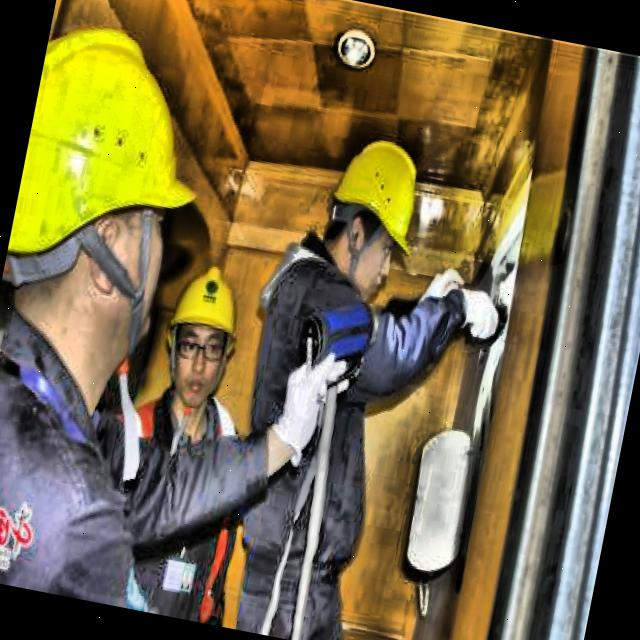helmet: (0, 4, 231, 425), (308, 122, 440, 313), (148, 246, 256, 414)
